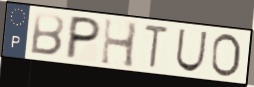B: (28, 10, 67, 58)
H: (99, 16, 140, 71)
O: (208, 32, 242, 79)
P: (63, 14, 104, 61)
T: (143, 23, 171, 70)
U: (173, 27, 209, 74)
